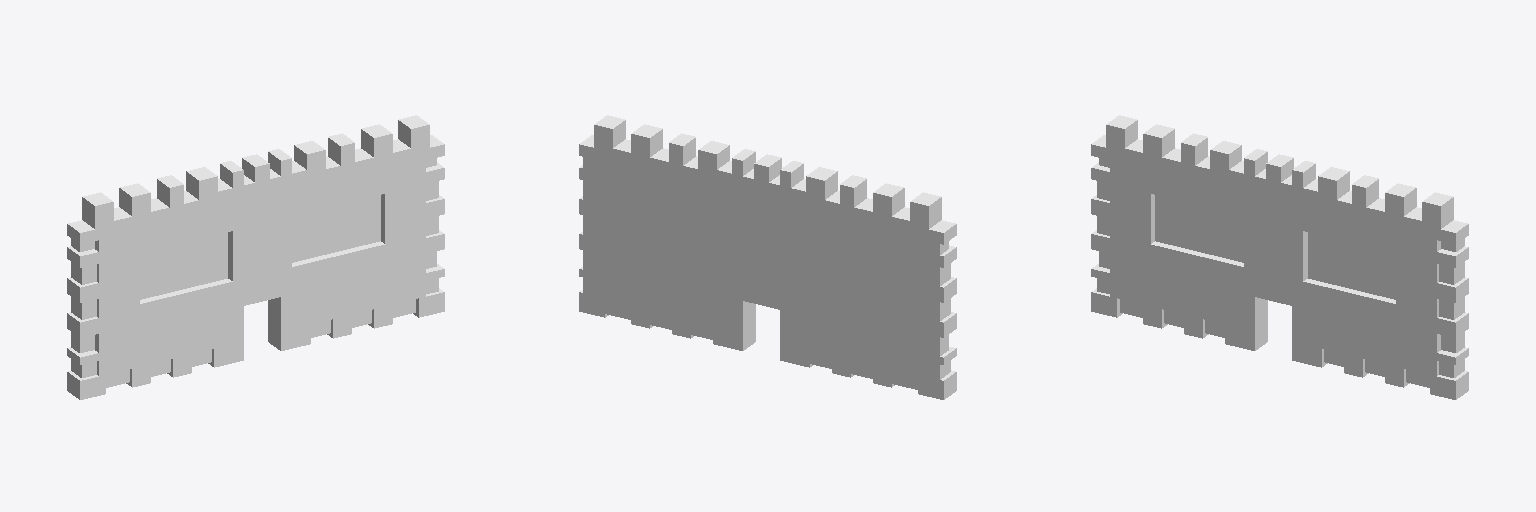
The model's file is ColombinaMask.obj.
The picture shows the model from 3 angles: view 1: azimuth 30°, elevation 25°; view 2: azimuth 150°, elevation 25°; view 3: azimuth 330°, elevation 25°; orthographic projection.
Parts seen in each view (by area): view 1: object 1; view 2: object 1; view 3: object 1.
Boxes of the visible parts, <box> form: object 1: <box>67,115,444,399</box>; object 1: <box>579,115,956,399</box>; object 1: <box>1091,115,1468,399</box>.
Size of the model in its own units: 9.8 by 4.9 by 0.6.